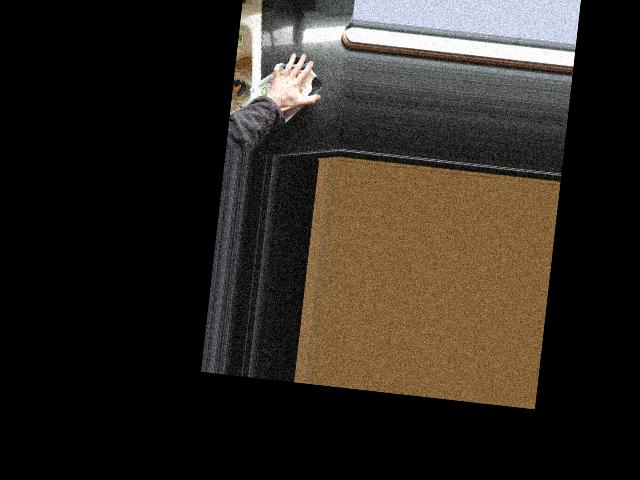cheese: (243, 48, 327, 131)
